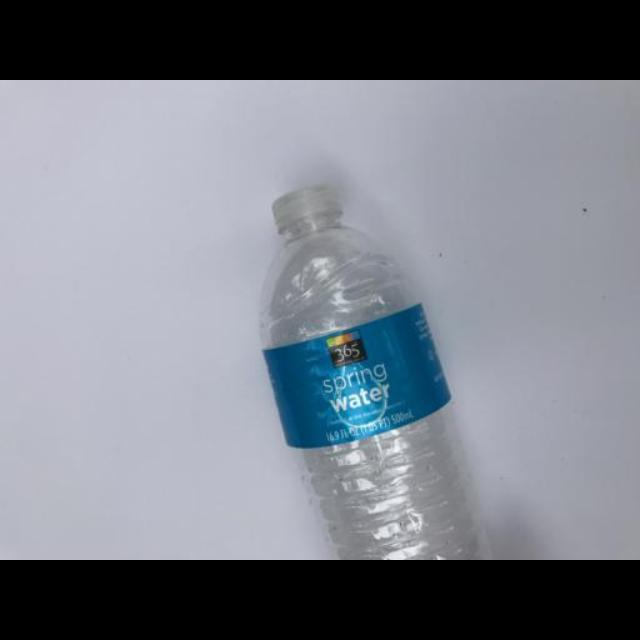garrafa plástica: (255, 222, 491, 560)
tampa plástica: (272, 182, 344, 234)
